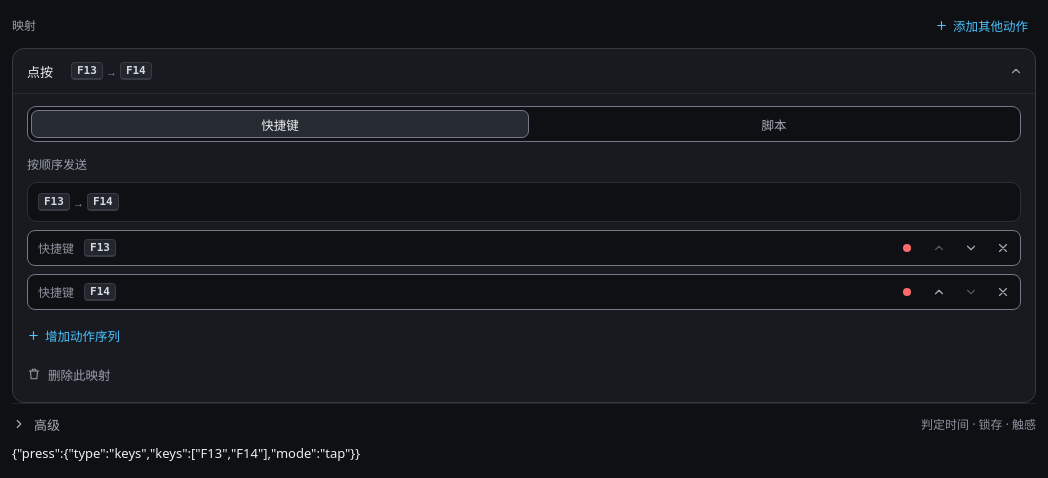
Scenario: a shortcut the drawer writes › is written as one held shortcut when a sequence goes down to one step
The image size is (1048, 478).
Click the button named "删除第 1 步" at (1003, 248), box [988,233,1018,263]
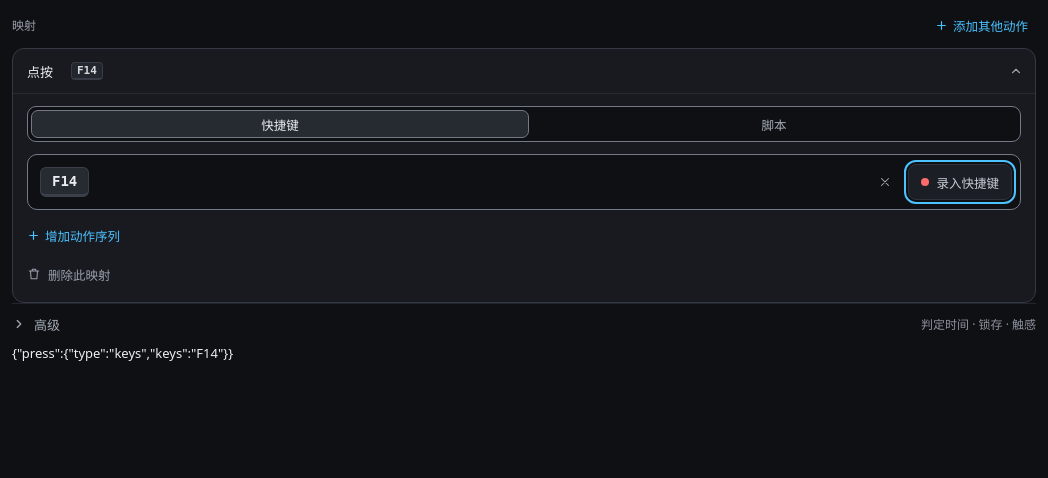
Expected: the 1st text "F14" is shown, [71,62,103,80]
